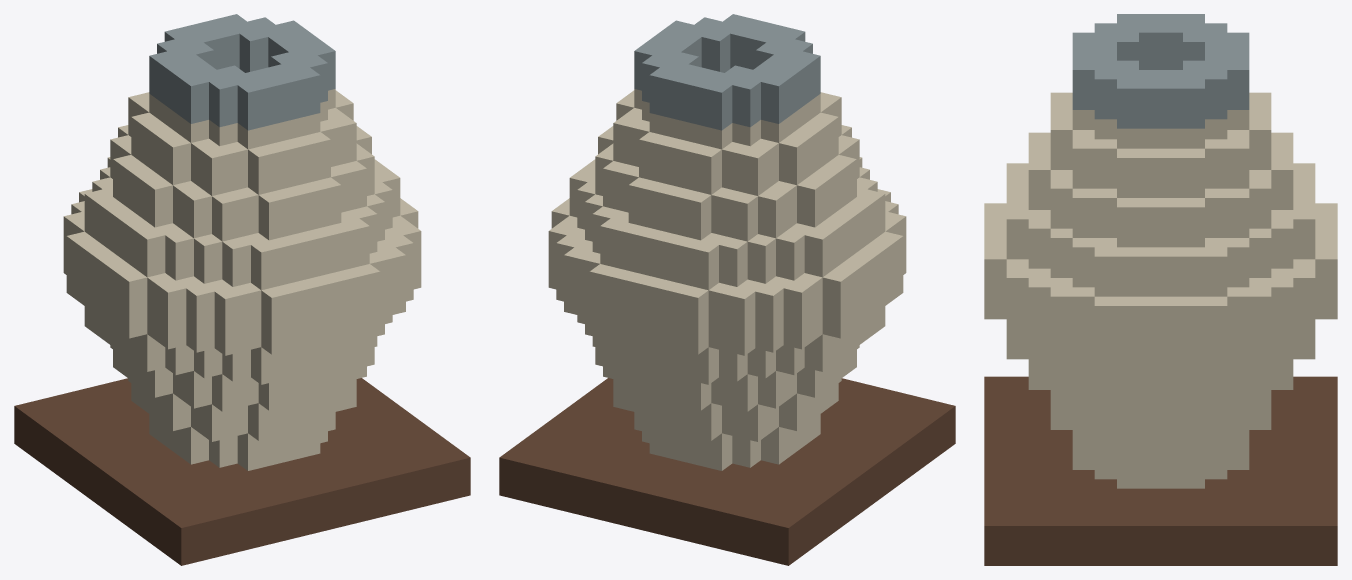
The model's file is landmark.glb.
3 views of the same model, side by side, from view 1: azimuth 30°, elevation 25°; view 2: azimuth 150°, elevation 25°; view 3: azimuth 270°, elevation 25° (orthographic). The views are drawn at different scales.
Parts seen in each view (by area): view 1: Shell; view 2: Shell; view 3: Shell.
Boxes of the visible parts, box(x1,y1,x2,y2) form: Shell: box(14, 14, 470, 565); Shell: box(499, 14, 955, 565); Shell: box(984, 14, 1337, 565).
Size of the model in its own units: 2 by 2.75 by 2.
